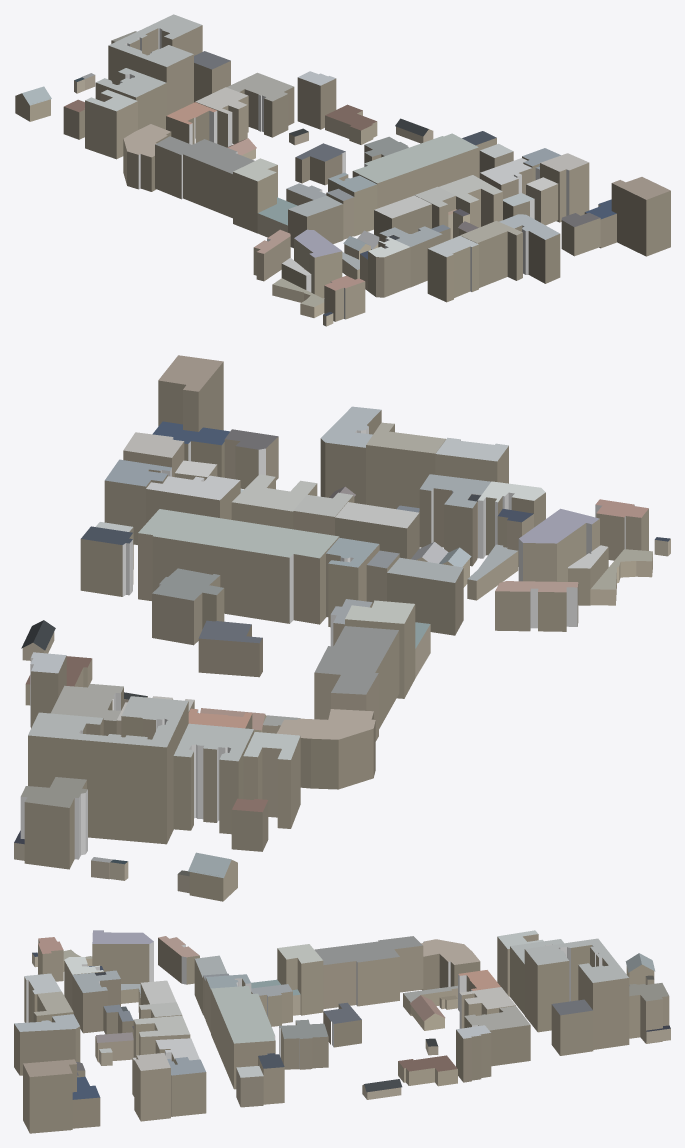
3 renders of one model, top to bottom at view 1: azimuth 30°, elevation 25°; view 2: azimuth 150°, elevation 25°; view 3: azimuth 270°, elevation 25°, orthographic. The views are drawn at different scales.
Visible parts, largest first — view 1: tuile; view 2: tuile; view 3: tuile.
Part boxes in pixels (<box>): tuile: <box>15,14,670,326</box>; tuile: <box>14,355,670,901</box>; tuile: <box>14,930,670,1133</box>.
Bounding box in the file's own units: 159 × 30.8 × 258.
